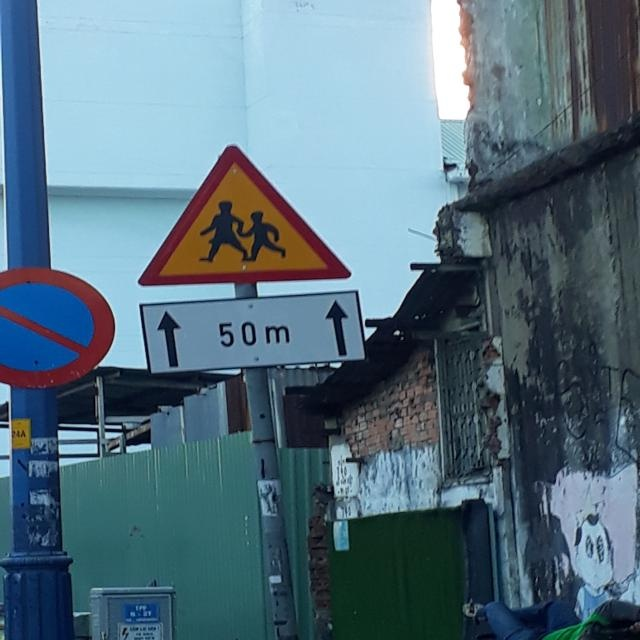bien_nguy_hiem: (139, 146, 357, 284), (140, 291, 366, 372), (0, 263, 116, 386)
